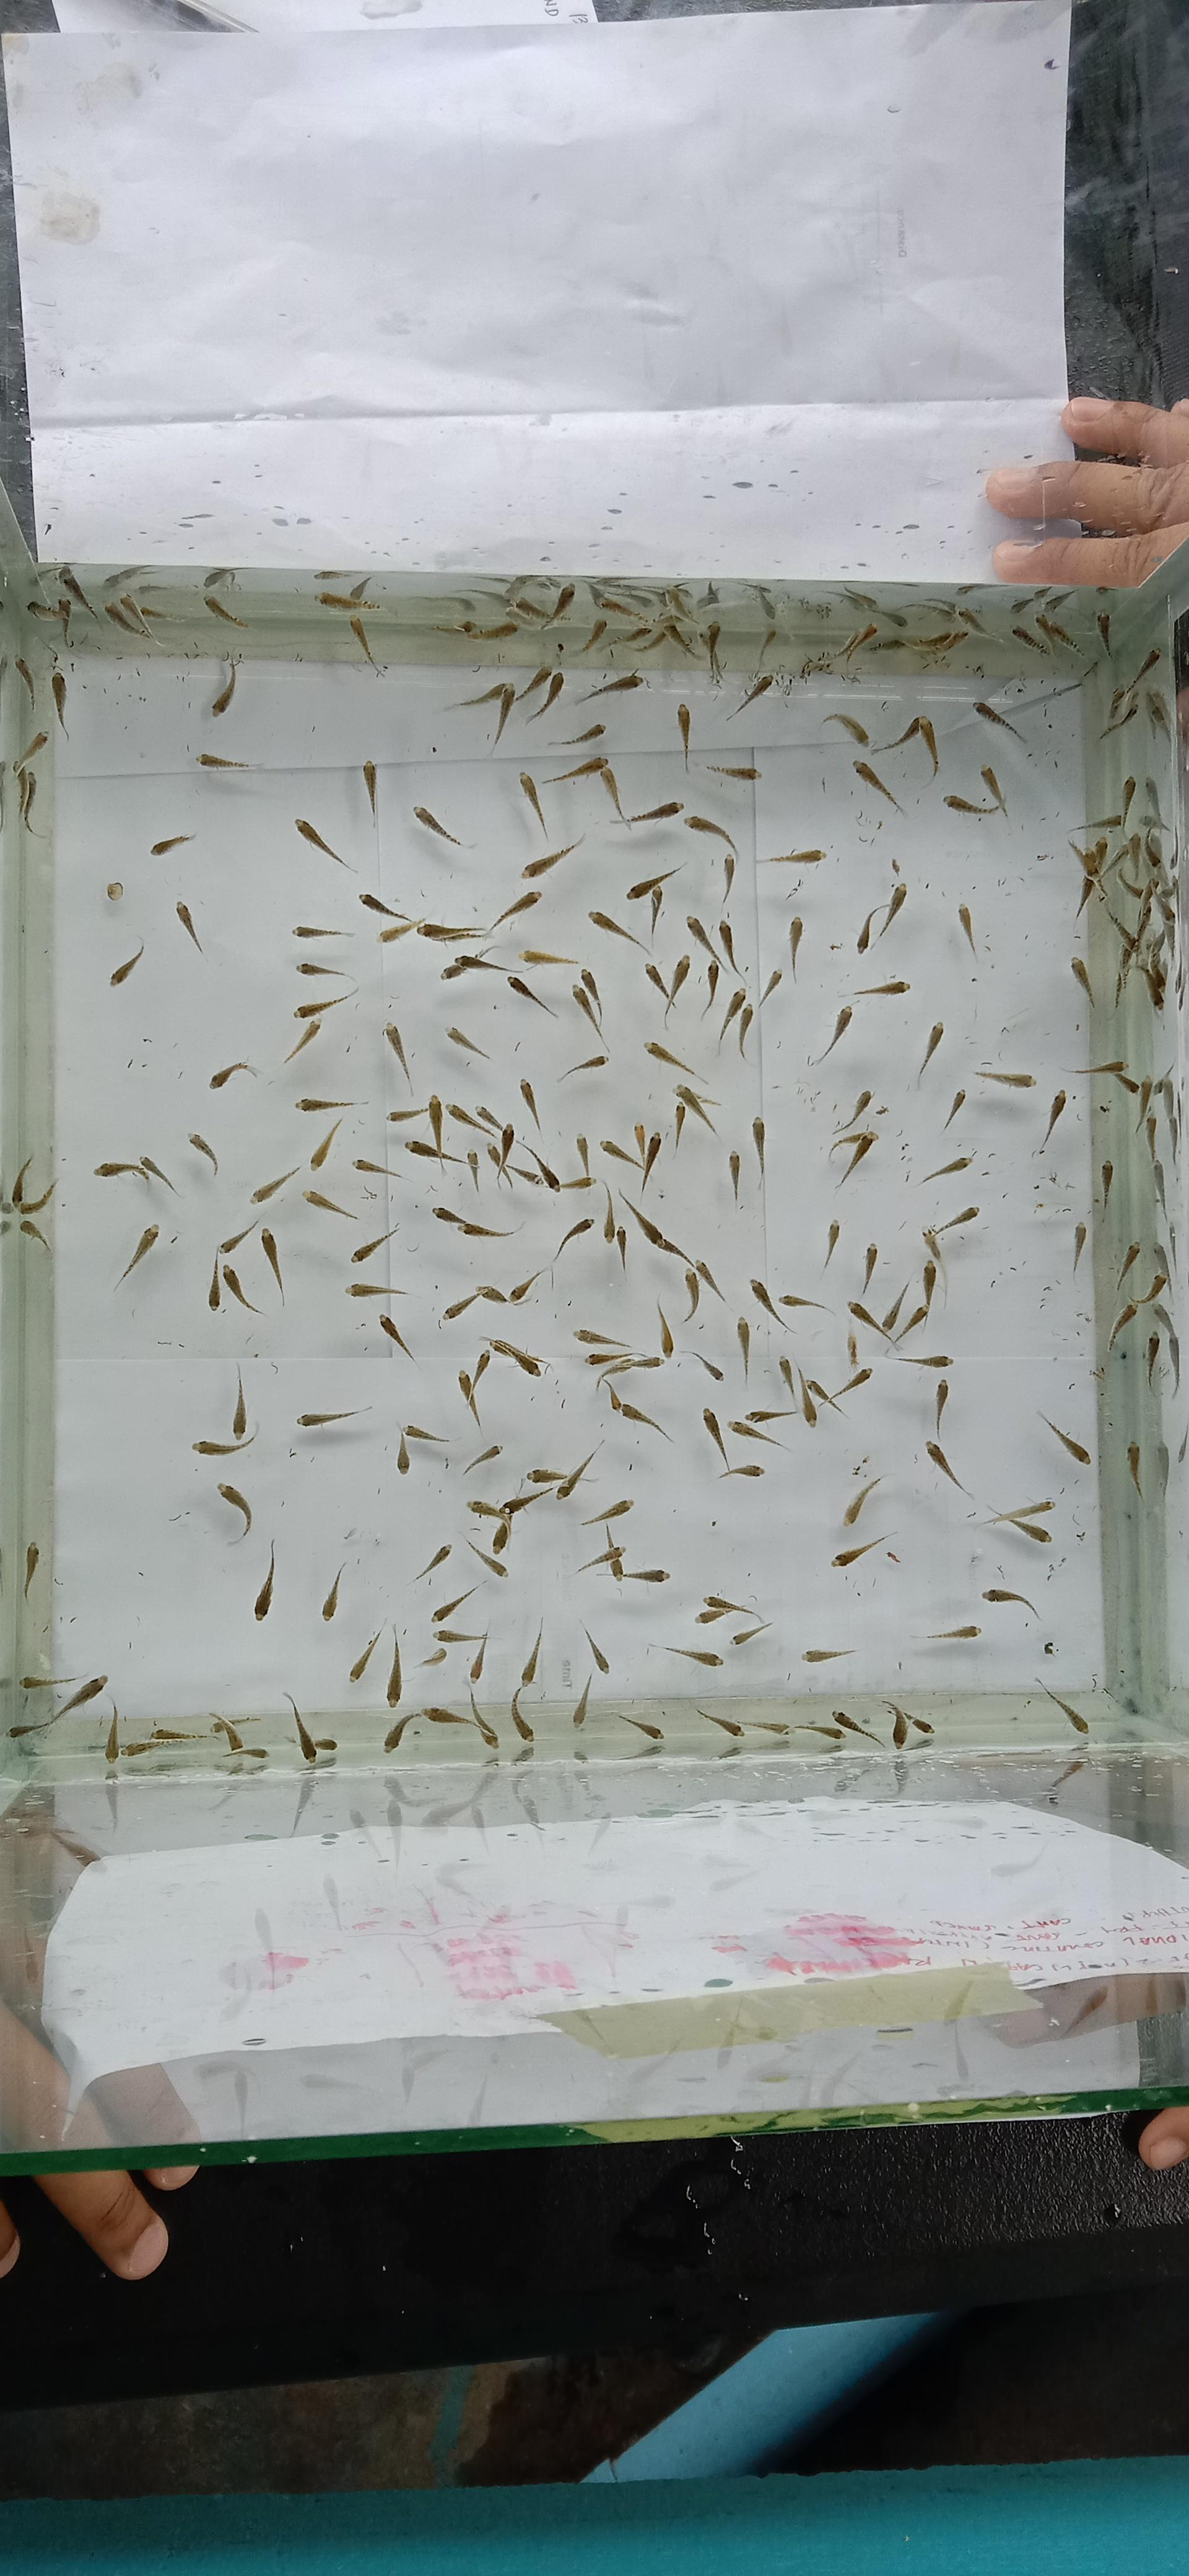fingerling: (744, 1359, 872, 1429), (517, 754, 608, 836), (360, 890, 489, 943), (419, 889, 540, 943), (677, 701, 759, 780), (923, 1377, 976, 1500), (847, 1278, 931, 1354), (920, 1204, 979, 1311), (192, 1364, 258, 1456), (440, 1268, 544, 1324), (614, 1188, 690, 1262), (284, 989, 358, 1065), (599, 762, 683, 828), (576, 1526, 668, 1585), (488, 664, 550, 749), (447, 680, 517, 752), (348, 1620, 404, 1709), (685, 813, 737, 904), (601, 1377, 673, 1442), (599, 1122, 663, 1193), (701, 1408, 764, 1480), (892, 1258, 943, 1344), (737, 968, 783, 1060), (872, 715, 939, 777), (509, 1620, 544, 1741), (381, 1705, 468, 1753), (626, 864, 682, 938), (573, 1327, 662, 1373), (486, 1122, 544, 1191), (540, 1216, 594, 1288), (746, 1355, 805, 1421), (695, 1594, 770, 1644), (1071, 774, 1136, 831), (805, 1365, 872, 1419), (644, 953, 693, 1027), (856, 882, 907, 953), (1067, 836, 1110, 918), (943, 764, 1007, 818), (977, 1498, 1054, 1543), (388, 1092, 447, 1150), (95, 1155, 179, 1194), (388, 1096, 481, 1130), (294, 816, 353, 871), (1035, 1676, 1089, 1735), (422, 1705, 499, 1746), (897, 598, 984, 634), (115, 1222, 159, 1291), (852, 757, 905, 815), (644, 1038, 709, 1084), (974, 700, 1033, 751), (925, 1439, 974, 1500), (516, 582, 576, 631), (296, 958, 358, 1005), (358, 890, 420, 938), (572, 968, 608, 1048), (1038, 1410, 1090, 1464), (435, 1626, 488, 1681), (588, 908, 652, 953), (481, 1336, 550, 1377), (434, 1204, 519, 1237), (457, 1349, 491, 1429), (521, 835, 583, 879), (810, 1004, 854, 1065), (831, 1130, 879, 1186), (11, 1157, 57, 1214), (1066, 1056, 1138, 1092), (782, 1359, 819, 1428), (440, 1283, 504, 1322), (396, 1423, 445, 1474), (412, 803, 468, 848), (673, 1083, 718, 1138), (282, 1690, 317, 1761), (348, 614, 388, 675), (749, 1276, 792, 1332), (575, 670, 644, 705), (726, 672, 774, 721), (841, 1474, 885, 1526), (468, 1500, 512, 1552), (506, 974, 557, 1019), (831, 1533, 895, 1567), (1115, 833, 1150, 897), (384, 1022, 414, 1096), (576, 1531, 624, 1575), (222, 1265, 264, 1314), (1097, 692, 1140, 741), (594, 1352, 662, 1383), (542, 754, 609, 785), (489, 889, 540, 930), (430, 1582, 481, 1623), (599, 762, 632, 825), (647, 872, 678, 938), (217, 1482, 251, 1541), (442, 950, 511, 979), (105, 593, 151, 637), (898, 628, 967, 657), (519, 1143, 562, 1191), (920, 1227, 944, 1309), (350, 1224, 401, 1263), (526, 670, 565, 721), (57, 565, 97, 616), (406, 1137, 466, 1170), (517, 770, 547, 838), (685, 913, 723, 966), (253, 1541, 278, 1621), (696, 1594, 759, 1625), (982, 1587, 1041, 1620), (447, 680, 512, 710), (626, 864, 682, 899), (353, 1157, 422, 1184), (488, 682, 516, 751), (250, 1165, 301, 1203), (831, 1710, 882, 1748), (468, 1686, 499, 1746), (294, 989, 358, 1019), (700, 1408, 729, 1472), (553, 1216, 594, 1262), (57, 1676, 105, 1715), (348, 1628, 383, 1682), (319, 577, 373, 611), (647, 1643, 723, 1667), (302, 1188, 358, 1221), (488, 1122, 516, 1188), (831, 1088, 872, 1132), (1033, 614, 1079, 654), (847, 1301, 893, 1341), (728, 1419, 788, 1449), (686, 813, 736, 849), (880, 1280, 911, 1336), (378, 1313, 415, 1359), (284, 1019, 322, 1065), (309, 1117, 342, 1170), (989, 1497, 1054, 1523), (297, 1405, 371, 1428), (777, 1355, 805, 1416), (918, 1155, 972, 1186), (805, 1377, 846, 1418), (411, 1543, 452, 1584), (463, 1538, 507, 1575), (445, 1099, 491, 1135), (821, 711, 869, 746), (606, 624, 654, 659), (1107, 1301, 1138, 1354), (419, 920, 489, 943), (138, 1155, 179, 1194), (383, 1710, 420, 1753), (879, 881, 907, 938), (445, 1023, 489, 1060), (204, 593, 248, 629), (916, 1022, 943, 1083), (943, 792, 1003, 818), (501, 1483, 552, 1515), (192, 1431, 256, 1456), (580, 1498, 632, 1528), (718, 989, 747, 1042), (892, 1303, 930, 1344), (930, 1204, 979, 1235), (108, 941, 143, 986), (1104, 905, 1138, 950), (210, 657, 236, 715), (1041, 1089, 1067, 1147), (544, 582, 576, 628), (925, 1441, 957, 1487), (358, 890, 409, 920), (915, 715, 939, 775), (839, 621, 879, 659), (1067, 838, 1107, 876), (521, 1620, 544, 1684), (549, 721, 604, 747), (716, 920, 744, 973), (568, 1442, 601, 1487), (16, 766, 38, 833), (639, 1130, 662, 1193), (509, 1687, 535, 1741), (210, 1713, 246, 1753), (174, 900, 202, 951), (320, 1562, 345, 1620), (218, 1219, 259, 1253), (626, 800, 683, 825), (673, 1081, 721, 1111), (693, 1258, 726, 1301), (458, 618, 519, 641), (792, 593, 836, 624), (230, 1364, 248, 1439), (572, 618, 608, 655), (696, 1709, 742, 1738), (831, 1365, 872, 1398), (384, 1635, 402, 1709), (703, 621, 724, 683), (209, 1061, 256, 1089), (616, 1713, 663, 1741), (581, 1626, 609, 1674), (575, 1327, 632, 1350), (580, 969, 603, 1027), (15, 731, 49, 769), (461, 1442, 501, 1475), (558, 1053, 608, 1079), (1069, 956, 1095, 1005), (887, 1349, 953, 1368), (519, 1470, 568, 1497), (884, 1702, 911, 1748), (677, 703, 695, 774), (1115, 1240, 1141, 1288), (519, 1076, 542, 1130), (507, 1268, 544, 1303), (1071, 810, 1125, 833), (499, 1160, 544, 1188), (20, 1671, 82, 1690), (1066, 1058, 1128, 1078), (700, 961, 721, 1019), (51, 672, 69, 739), (189, 1132, 218, 1173), (974, 1068, 1035, 1088), (517, 665, 552, 700), (759, 846, 824, 864), (688, 1349, 724, 1382), (296, 1096, 368, 1112), (979, 764, 1005, 808), (736, 1316, 752, 1387), (599, 1138, 640, 1166), (18, 1217, 51, 1252), (583, 1344, 632, 1367), (856, 904, 879, 953), (1136, 1076, 1156, 1134), (458, 948, 504, 973), (599, 1180, 617, 1242), (921, 1260, 943, 1313), (798, 652, 838, 680), (347, 1281, 407, 1299), (1145, 1331, 1163, 1391), (1010, 1518, 1051, 1544), (197, 752, 256, 770), (778, 1293, 833, 1313), (859, 1242, 879, 1296), (680, 1267, 700, 1321), (103, 1704, 122, 1763), (737, 1004, 757, 1058), (1010, 624, 1046, 654), (755, 968, 783, 1005), (95, 1160, 145, 1181), (521, 948, 578, 966), (703, 762, 760, 780), (424, 593, 481, 611), (821, 1219, 841, 1272), (731, 1620, 770, 1646), (839, 588, 879, 614), (787, 917, 803, 979), (149, 833, 194, 856), (1107, 683, 1136, 718), (953, 603, 987, 632), (670, 953, 693, 997), (892, 1137, 913, 1184), (378, 918, 419, 943), (854, 977, 910, 996), (613, 1564, 668, 1582), (427, 1094, 445, 1150), (751, 583, 778, 619), (23, 1541, 41, 1597), (292, 923, 353, 940), (943, 1088, 966, 1130), (657, 1301, 675, 1355), (572, 1676, 591, 1725), (698, 1595, 737, 1620), (649, 884, 667, 936), (1112, 954, 1130, 1007), (338, 1526, 383, 1548), (361, 759, 378, 816), (468, 1633, 488, 1681), (644, 961, 668, 999), (149, 1725, 200, 1743), (933, 1378, 949, 1434), (1127, 1441, 1143, 1497), (524, 1467, 570, 1487), (852, 818, 887, 844), (957, 904, 976, 953), (56, 598, 74, 647), (719, 849, 736, 904), (751, 1117, 765, 1176), (422, 1705, 466, 1725), (475, 1106, 504, 1135), (796, 1084, 826, 1114), (1141, 1270, 1169, 1301), (921, 1226, 944, 1263), (133, 598, 171, 621), (435, 1628, 488, 1644), (1120, 775, 1136, 828), (297, 961, 345, 979), (801, 1380, 819, 1428), (923, 1625, 980, 1640), (207, 1253, 222, 1311), (404, 1423, 447, 1442), (122, 1738, 161, 1759), (746, 1406, 796, 1423), (718, 1462, 764, 1480), (604, 1544, 627, 1580), (1095, 611, 1113, 657), (801, 1648, 857, 1663), (491, 1148, 511, 1189), (26, 600, 64, 621), (1033, 1196, 1071, 1217), (573, 1134, 591, 1178), (1095, 1161, 1112, 1209), (7, 1715, 34, 1743), (728, 1150, 742, 1203), (15, 657, 34, 697), (696, 582, 723, 611), (489, 1518, 511, 1554), (1071, 1222, 1086, 1273), (463, 1148, 481, 1189), (388, 1104, 429, 1122), (601, 1377, 622, 1411), (759, 626, 777, 665), (752, 1720, 792, 1738), (594, 601, 634, 619), (798, 1327, 831, 1349), (1041, 1552, 1066, 1580), (468, 1500, 503, 1520), (670, 1102, 685, 1148), (553, 1175, 594, 1191), (632, 1120, 649, 1161), (1113, 1069, 1140, 1094), (846, 1454, 872, 1479), (434, 1206, 466, 1226), (550, 639, 567, 678), (353, 1157, 393, 1173), (614, 1226, 627, 1273), (396, 1433, 411, 1474), (228, 1746, 269, 1761), (911, 1352, 953, 1367), (777, 1355, 793, 1391), (695, 1607, 728, 1625), (476, 1283, 506, 1303), (1140, 1076, 1156, 1111), (417, 1648, 448, 1666), (908, 1715, 934, 1736), (440, 958, 466, 979), (429, 623, 468, 636), (846, 1331, 859, 1368), (553, 1475, 575, 1498), (356, 1181, 381, 1201), (154, 1336, 187, 1349), (668, 600, 691, 618), (312, 1736, 337, 1753), (105, 881, 123, 900), (125, 1056, 149, 1069), (169, 1510, 192, 1523), (884, 1549, 900, 1564)
